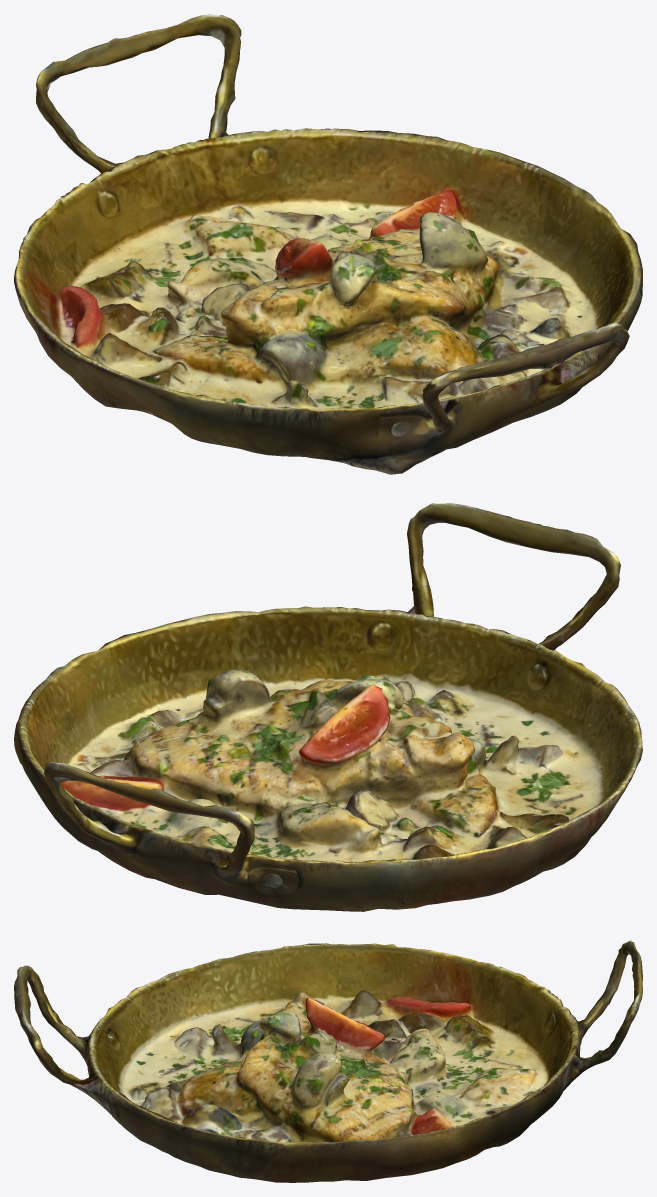
Rendered from supreme-de-poulet-aux-champignons.glb.
The picture shows the model from 3 angles, top to bottom: view 1: azimuth 30°, elevation 25°; view 2: azimuth 150°, elevation 25°; view 3: azimuth 270°, elevation 25°; orthographic projection. The views are drawn at different scales.
Parts seen in each view (by area): view 1: /ObjectCapture/Geometry/Mesh; view 2: /ObjectCapture/Geometry/Mesh; view 3: /ObjectCapture/Geometry/Mesh.
Part boxes in pixels (<box>): /ObjectCapture/Geometry/Mesh: <box>14,14,642,474</box>; /ObjectCapture/Geometry/Mesh: <box>14,503,642,911</box>; /ObjectCapture/Geometry/Mesh: <box>14,940,642,1182</box>.
Bounding box in the file's own units: 0.2313 × 0.0735 × 0.2967.
Materials: 1 (1 with a texture image).
